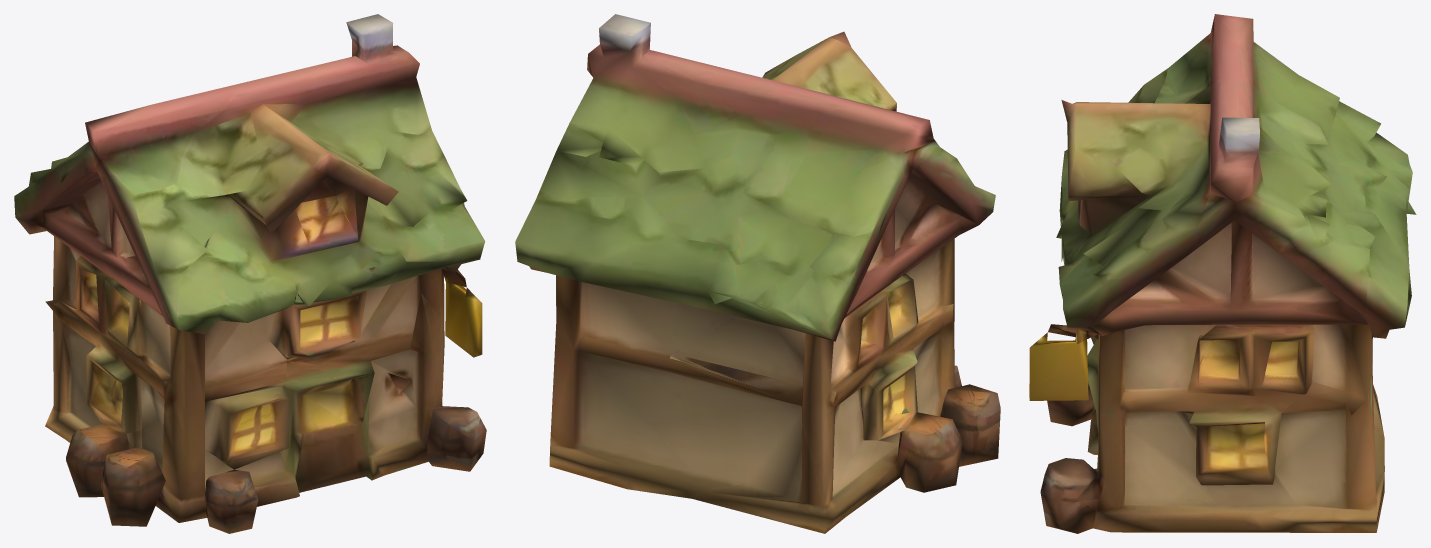
The model's file is inn.glb.
The picture shows the model from 3 angles, left to right: view 1: azimuth 30°, elevation 25°; view 2: azimuth 150°, elevation 25°; view 3: azimuth 270°, elevation 25°; orthographic projection. The views are drawn at different scales.
Parts seen in each view (by area): view 1: tripo_node_5589c7f1-dd59-4784-9211-8c410682370a; view 2: tripo_node_5589c7f1-dd59-4784-9211-8c410682370a; view 3: tripo_node_5589c7f1-dd59-4784-9211-8c410682370a.
Part boxes in pixels (x1,y1,x2,y2): tripo_node_5589c7f1-dd59-4784-9211-8c410682370a: (14, 14, 486, 533); tripo_node_5589c7f1-dd59-4784-9211-8c410682370a: (515, 14, 1000, 533); tripo_node_5589c7f1-dd59-4784-9211-8c410682370a: (1029, 14, 1416, 533).
Bounding box in the file's own units: 0.9324 × 0.9787 × 0.8464.
Materials: 1 (1 with a texture image).
